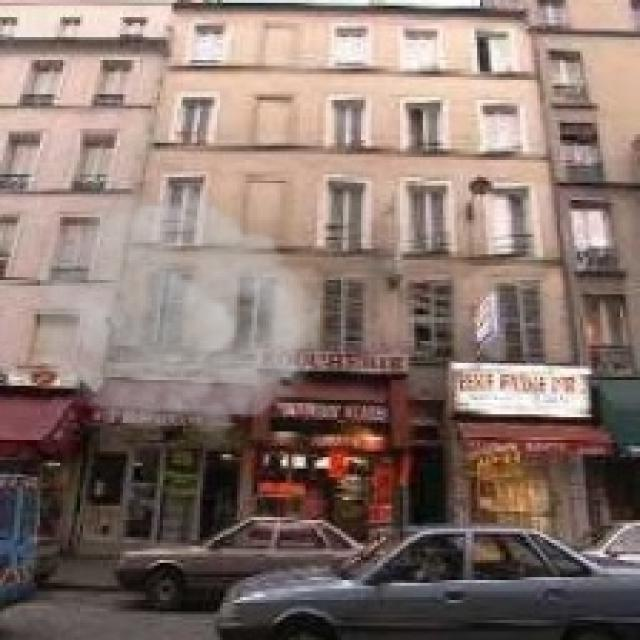smoke: (40, 177, 320, 449)
